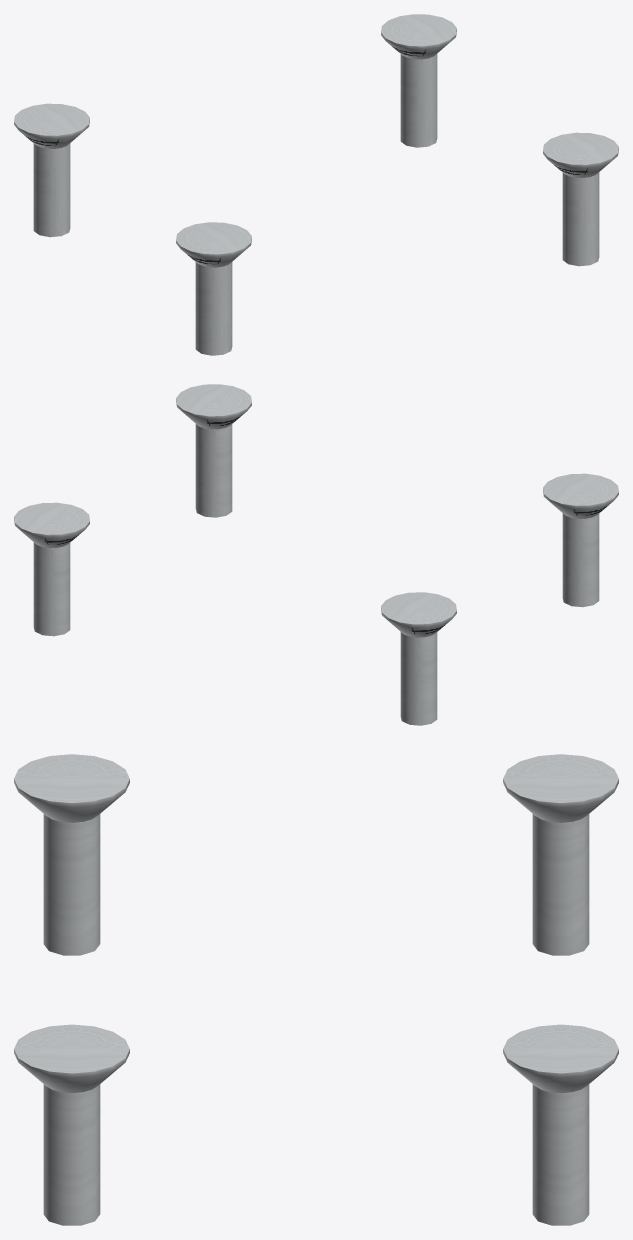
The model's file is sk8_hardware_std.glb.
The picture shows the model from 3 angles, top to bottom: view 1: azimuth 30°, elevation 25°; view 2: azimuth 150°, elevation 25°; view 3: azimuth 270°, elevation 25°; orthographic projection. The views are drawn at different scales.
Parts seen in each view (by area): view 1: SM_Hardware_std; view 2: SM_Hardware_std; view 3: SM_Hardware_std.
Part boxes in pixels (bbox=[...]): SM_Hardware_std: bbox=[14, 14, 618, 355]; SM_Hardware_std: bbox=[14, 384, 618, 725]; SM_Hardware_std: bbox=[14, 754, 618, 1225].
Bounding box in the file's own units: 0.0638 × 0.0155 × 0.0511.
1 material, 1 textured.
